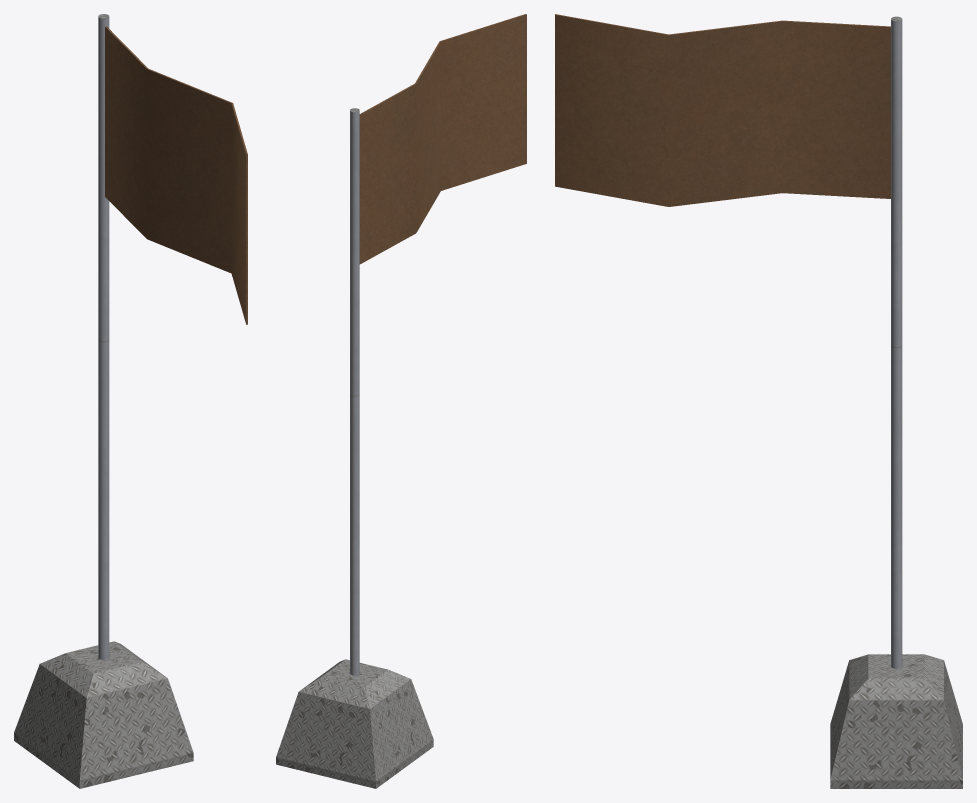
The model's file is Flag.FBX.
The picture shows the model from 3 angles, left to right: view 1: azimuth 30°, elevation 25°; view 2: azimuth 150°, elevation 25°; view 3: azimuth 270°, elevation 25°; orthographic projection. The views are drawn at different scales.
Visible parts, largest first — view 1: Box002; view 2: Box002; view 3: Box002.
Boxes of the visible parts, box(x1,y1,x2,y2) form: Box002: box(14, 14, 247, 788); Box002: box(276, 14, 526, 788); Box002: box(555, 14, 962, 788).
Bounding box in the file's own units: 70 × 432 × 215.
1 material, 1 textured.
